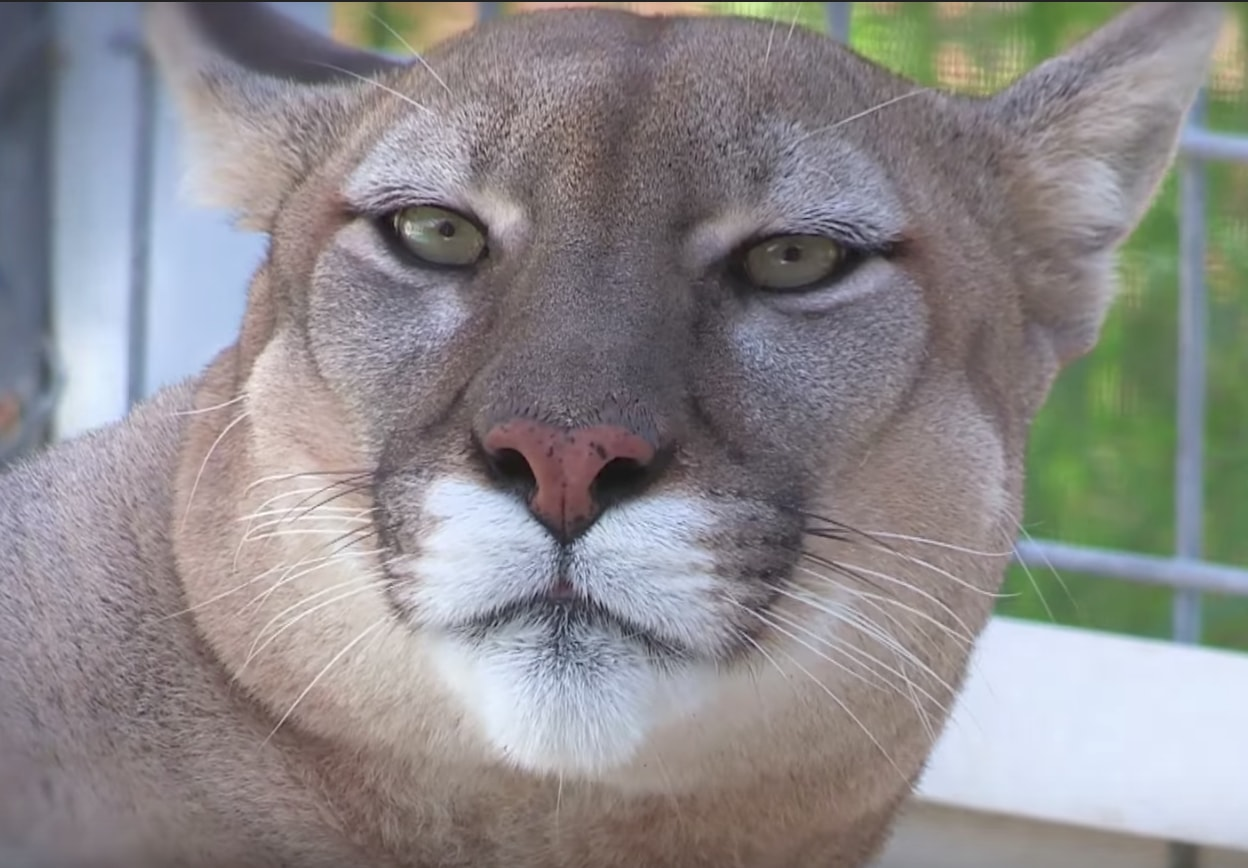Mountain Lion: (21, 11, 1235, 856)
